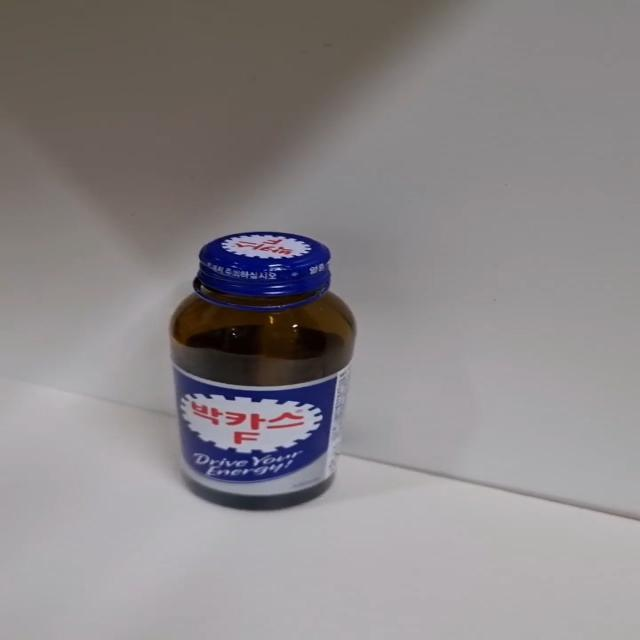Glass: (167, 230, 358, 514)
